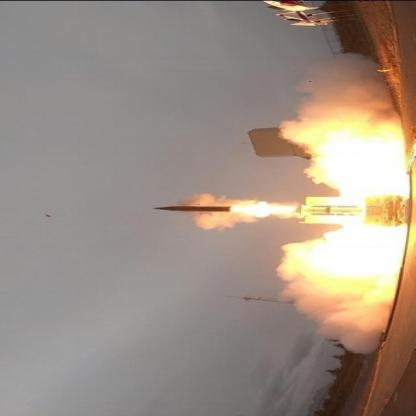MIL_TBM: (148, 202, 242, 214)
